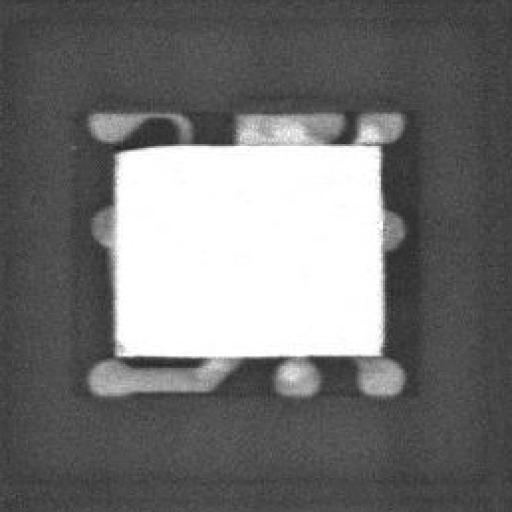DIE_BROKEN: (109, 142, 199, 154)
